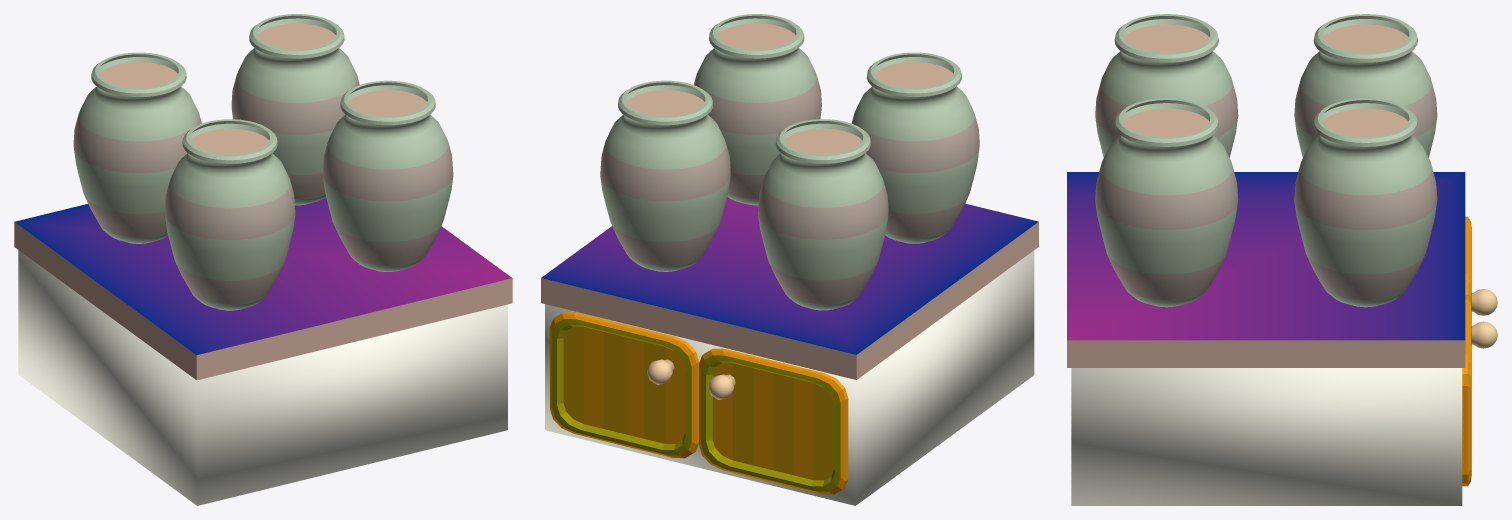
File: FloristsVaseProvider.fbx
3 views of the same model, side by side, from view 1: azimuth 30°, elevation 25°; view 2: azimuth 150°, elevation 25°; view 3: azimuth 270°, elevation 25° (orthographic). The views are drawn at different scales.
Visible parts, largest first — view 1: Body, Top, FloristsVase.003, FloristsVase.004, FloristsVase.002, FloristsVase.001, Top Rim; view 2: Doors, Top, Body, FloristsVase.002, FloristsVase.001, FloristsVase.003, FloristsVase.004, Top Rim, Handles; view 3: Body, Top, FloristsVase.004, FloristsVase.001, FloristsVase.002, FloristsVase.003, Top Rim, Doors, Handles.
Boxes of the visible parts, box(x1,y1,x2,y2) form: Body: box(18, 250, 507, 505); Top: box(15, 197, 512, 354); FloristsVase.003: box(164, 119, 295, 310); FloristsVase.004: box(322, 80, 453, 271); FloristsVase.002: box(73, 52, 201, 243); FloristsVase.001: box(231, 14, 359, 205); Top Rim: box(14, 222, 512, 380); Doors: box(550, 312, 848, 494); Top: box(541, 197, 1038, 354); Body: box(545, 250, 1034, 505); FloristsVase.002: box(758, 119, 888, 310); FloristsVase.001: box(600, 80, 730, 271); FloristsVase.003: box(851, 52, 979, 243); FloristsVase.004: box(694, 14, 821, 205); Top Rim: box(541, 222, 1038, 379); Handles: box(647, 359, 735, 399); Body: box(1071, 368, 1462, 505); Top: box(1067, 172, 1465, 340); FloristsVase.004: box(1095, 98, 1238, 307); FloristsVase.001: box(1294, 98, 1437, 307); FloristsVase.002: box(1294, 14, 1437, 157); FloristsVase.003: box(1095, 14, 1238, 157); Top Rim: box(1067, 340, 1465, 367); Doors: box(1462, 216, 1471, 486); Handles: box(1471, 289, 1497, 348).
Bounding box in the file's own units: 100 × 96.08 × 108.
